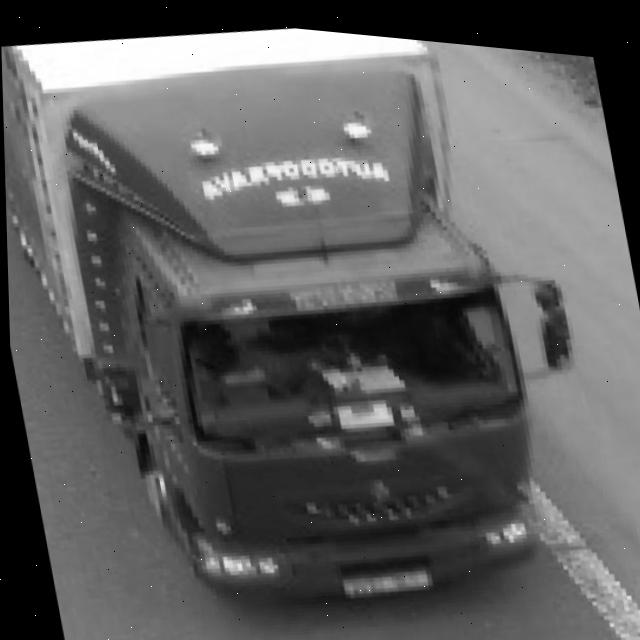truck: (6, 1, 607, 640)
